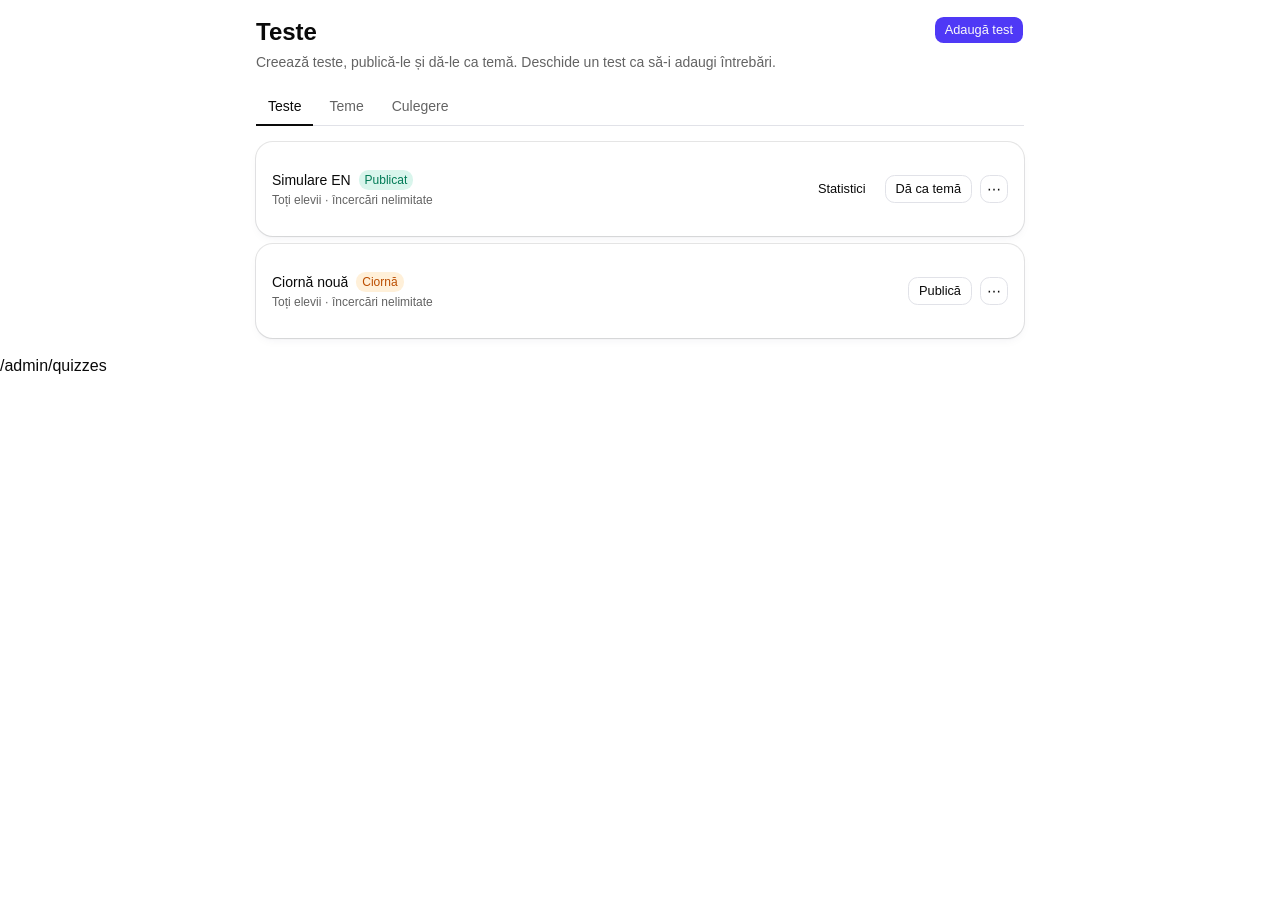
it: AdminQuizzesPage › încercări › asks only for the title and the class; the rest waits folded under Setări, saying what it is set to
The width and height of the screenshot is (1280, 900).
Click the button "Adaugă test" at (979, 30), box left=934, top=16, right=1024, bottom=44
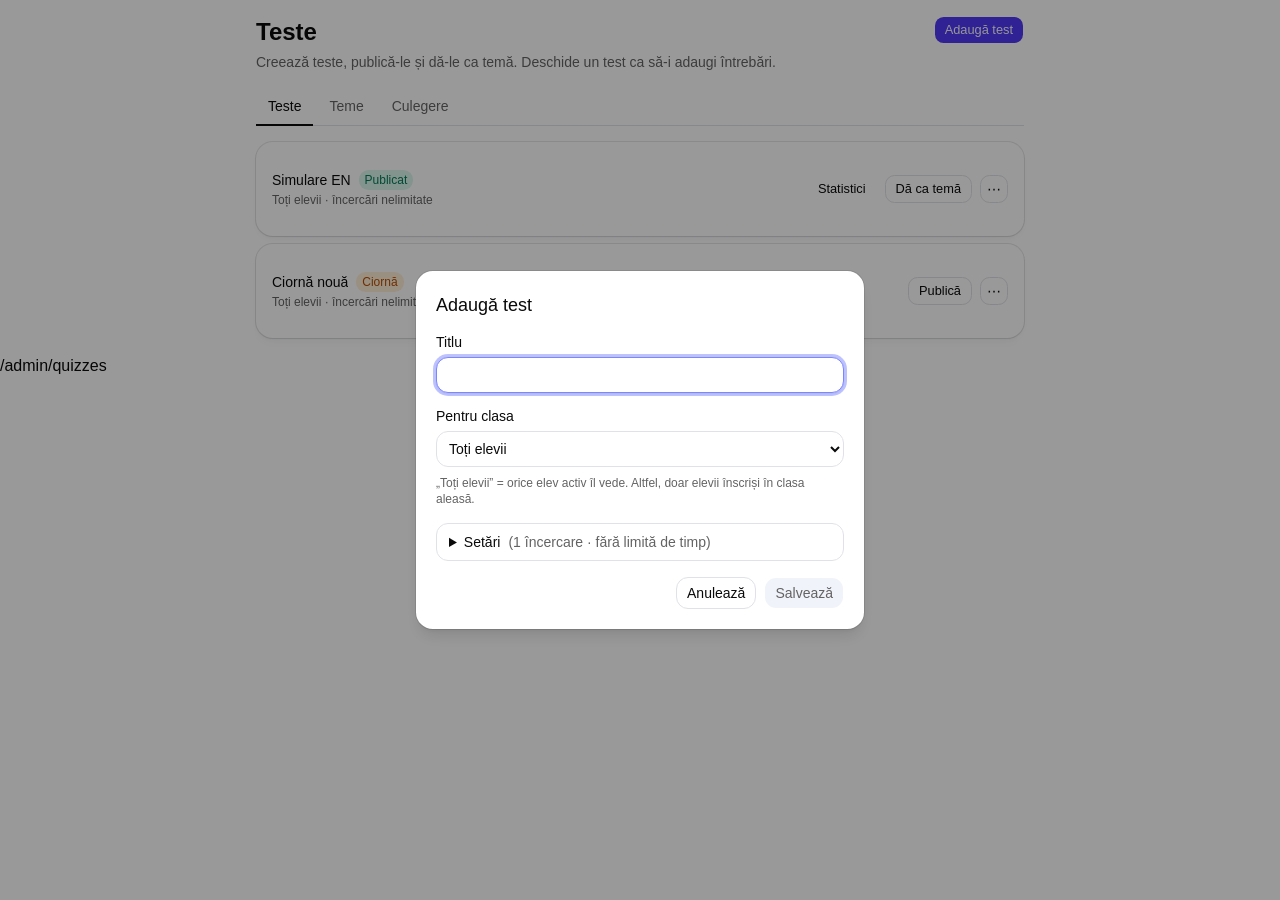
Result: the text with test id "quiz-settings-summary" shows "1 încercare · fără limită de timp" at left=513, top=534, right=706, bottom=550
Click the heading "Setări" at (587, 542), box left=464, top=534, right=711, bottom=550
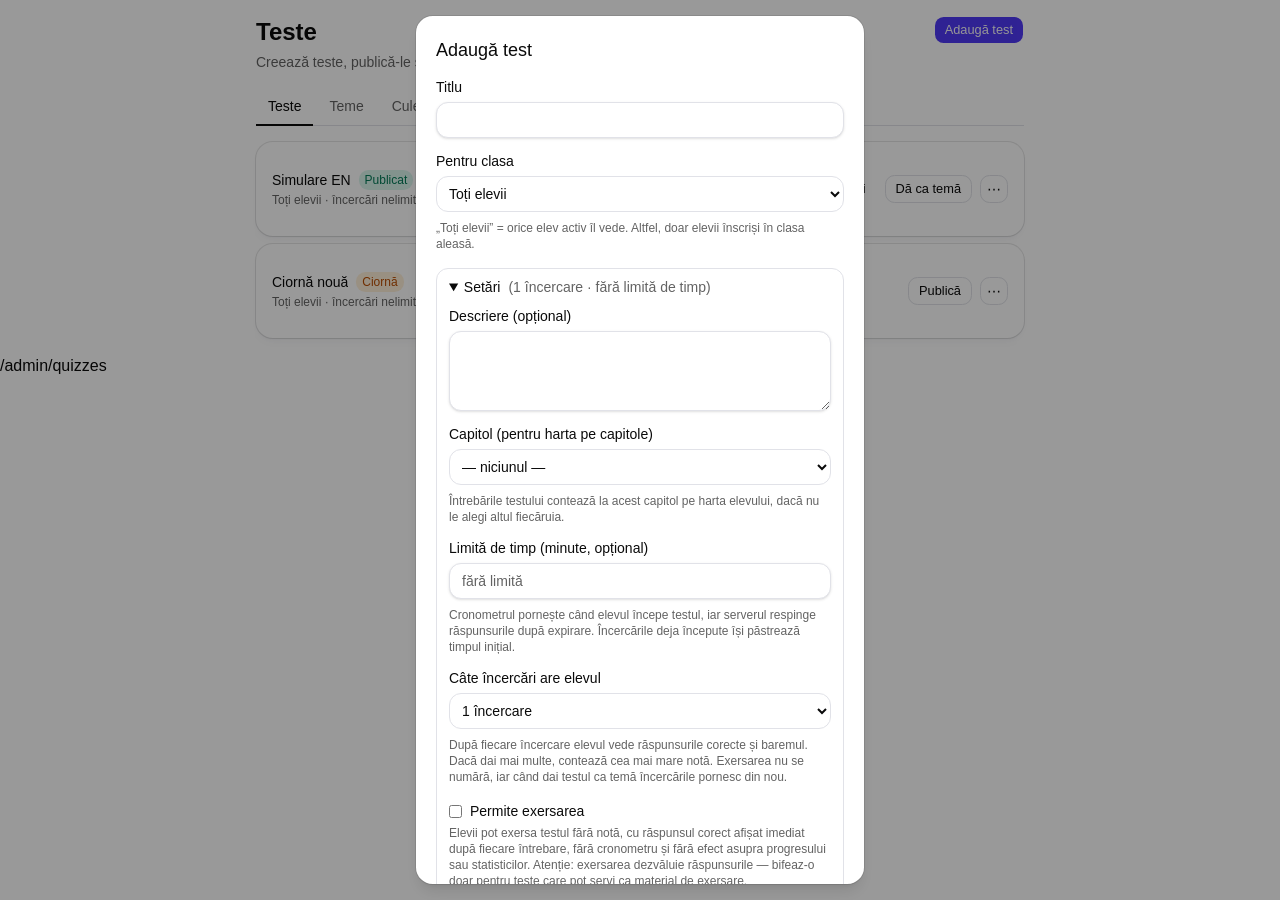
Type "30" into the number field labelled "Limită de timp (minute, opțional)" at (640, 581), box left=449, top=563, right=831, bottom=599
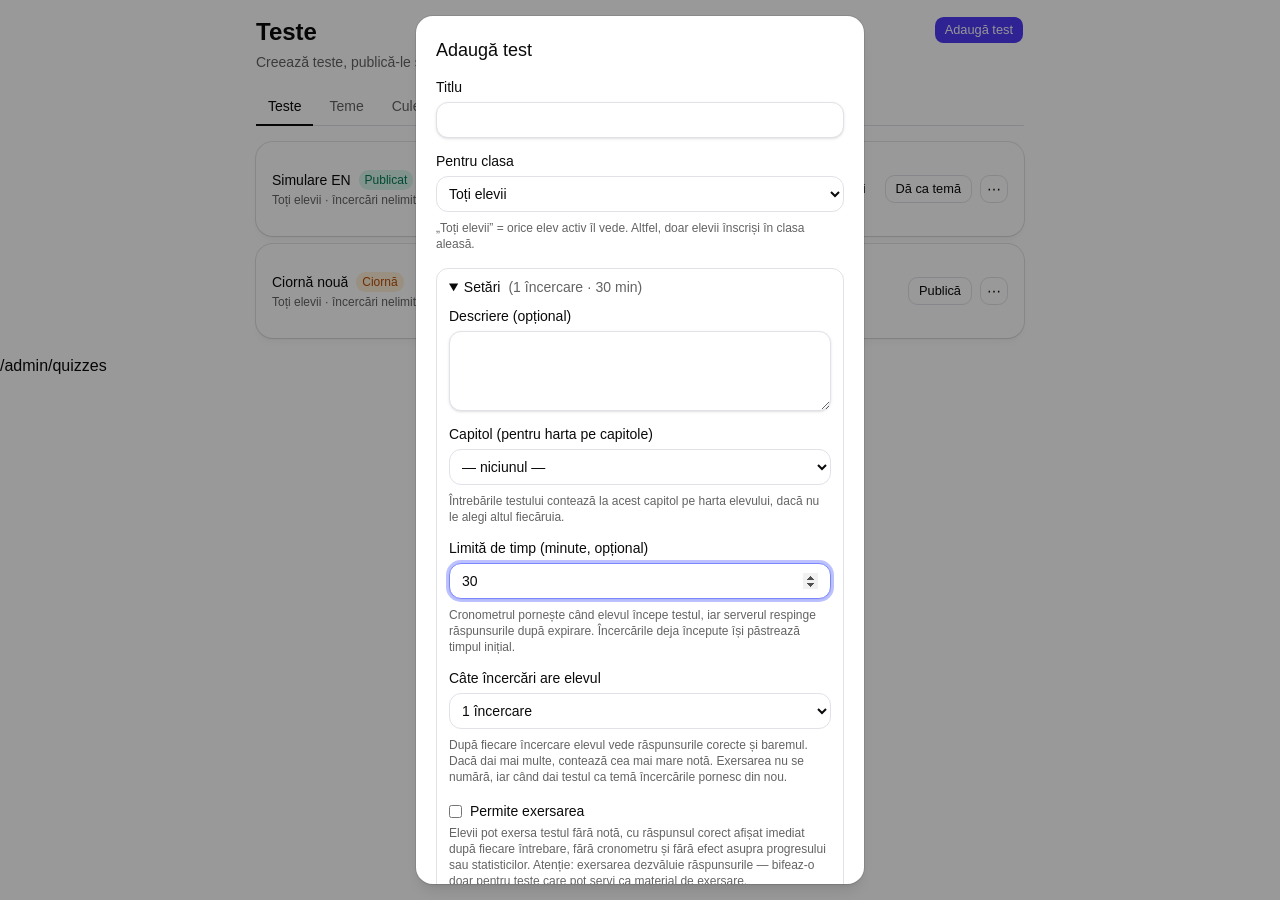
Click the checkbox labelled "Permite exersarea" at (456, 811), box left=449, top=804, right=462, bottom=818
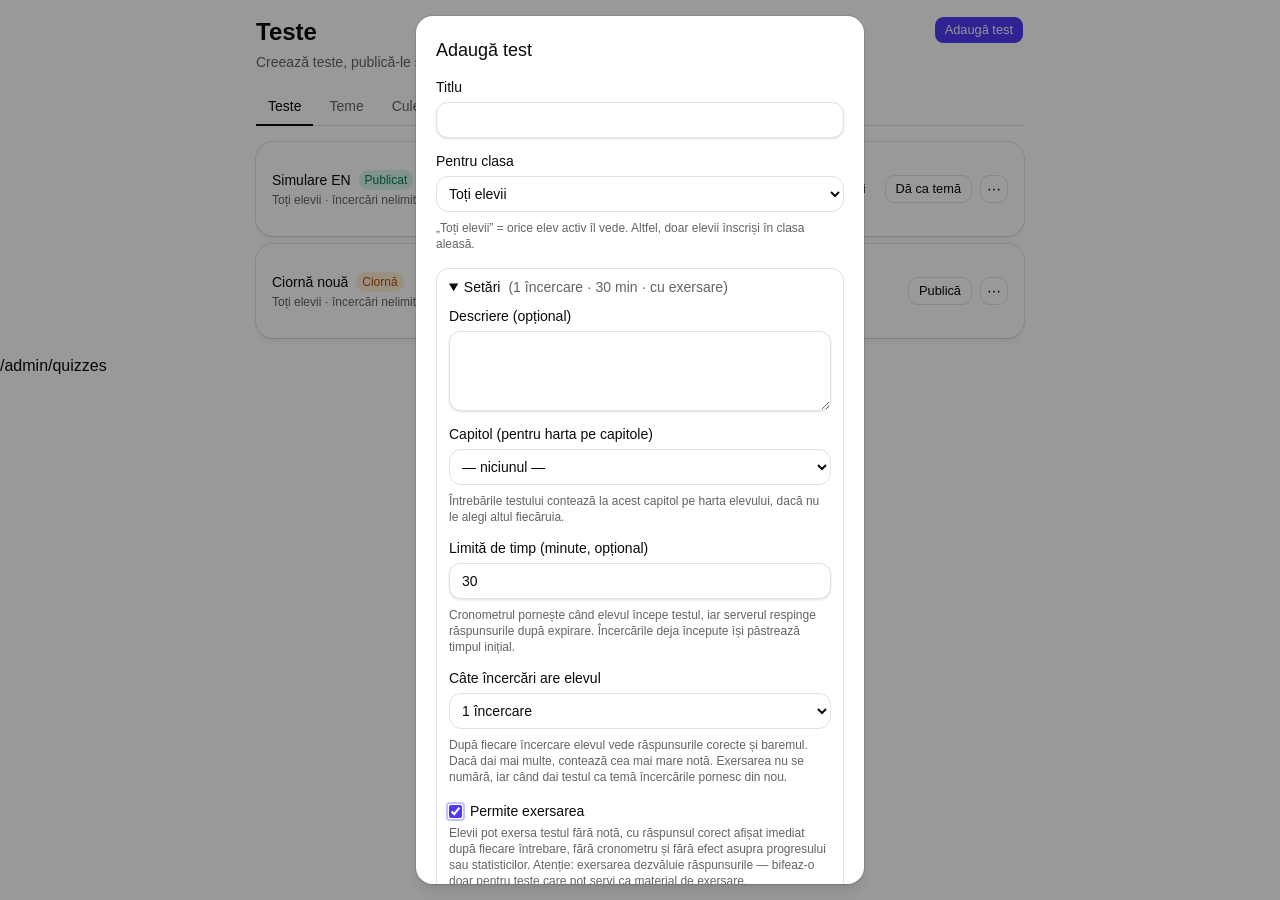
Result: the text with test id "quiz-settings-summary" shows "1 încercare · 30 min · cu exersare" at left=513, top=279, right=723, bottom=295
